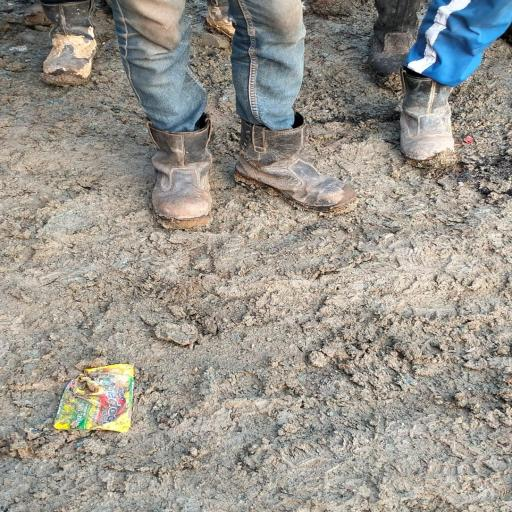safety_shoe: (235, 120, 350, 210), (144, 120, 219, 236), (391, 74, 466, 165), (39, 1, 103, 87)
